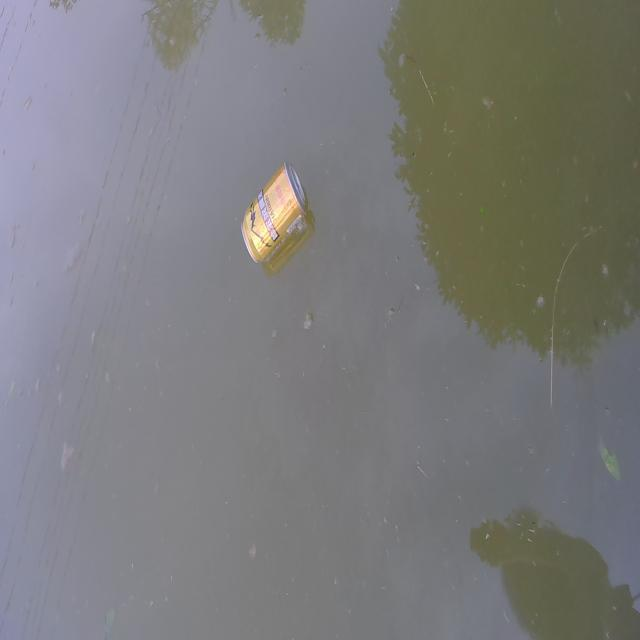garbage: (241, 160, 309, 268)
